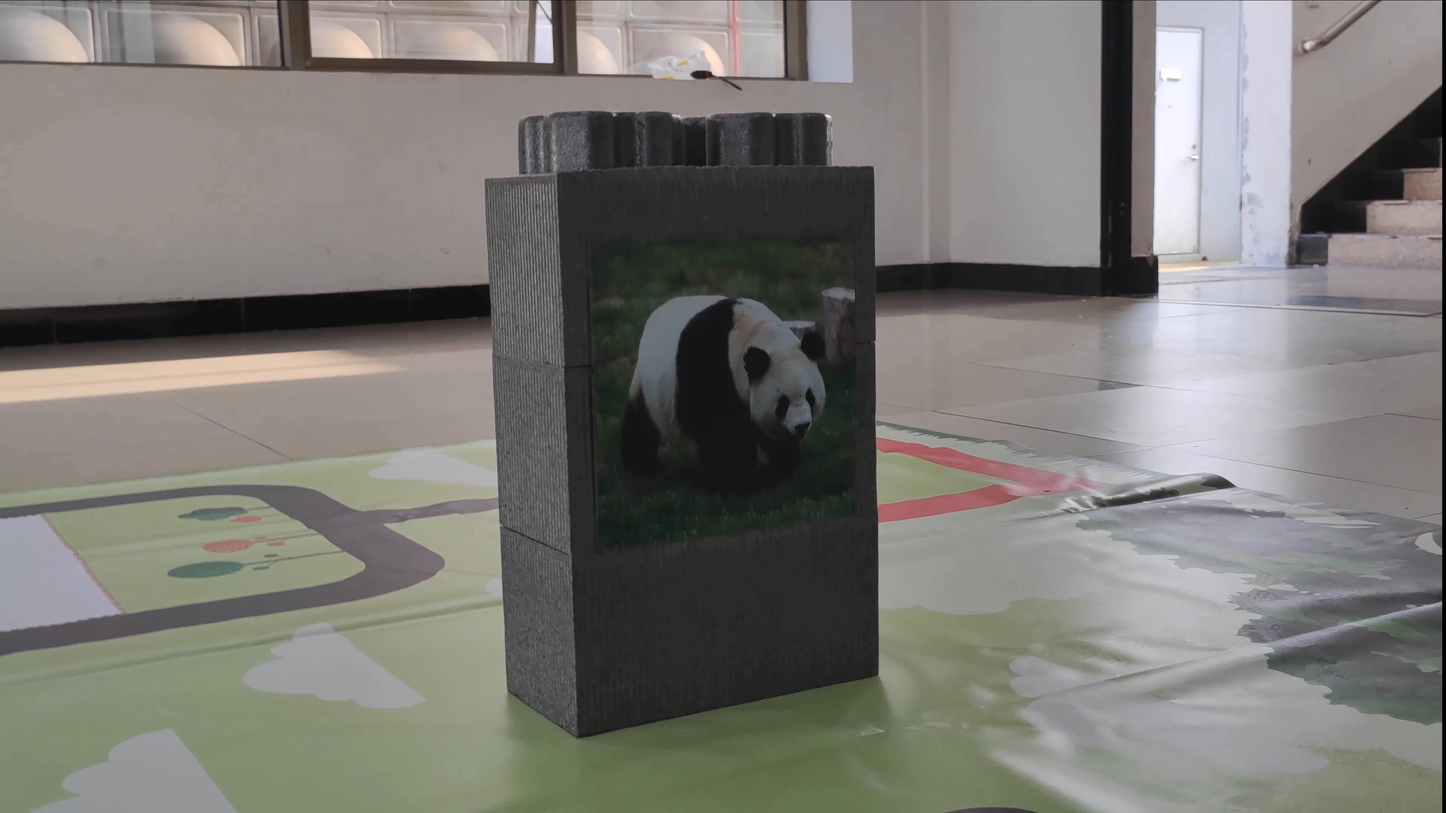panda: (599, 257, 853, 493)
